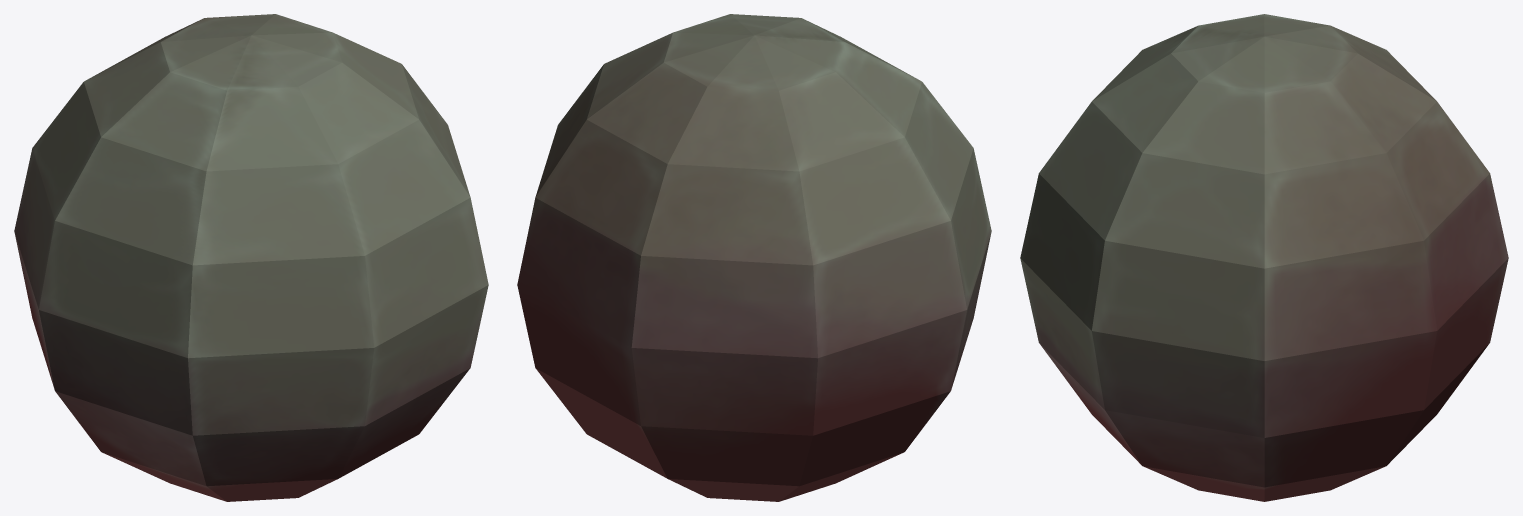
File: cannonBall.glb
3 views of the same model, side by side, from view 1: azimuth 30°, elevation 25°; view 2: azimuth 150°, elevation 25°; view 3: azimuth 270°, elevation 25° (orthographic).
Visible parts, largest first — view 1: pSphere4_lambert1_0; view 2: pSphere4_lambert1_0; view 3: pSphere4_lambert1_0.
Part boxes in pixels (left/top/right/bottom): pSphere4_lambert1_0: left=14, top=14, right=488, bottom=501; pSphere4_lambert1_0: left=517, top=14, right=991, bottom=501; pSphere4_lambert1_0: left=1020, top=14, right=1508, bottom=501.
Size of the model in its own units: 2 by 2 by 2.
1 material, 1 textured.
